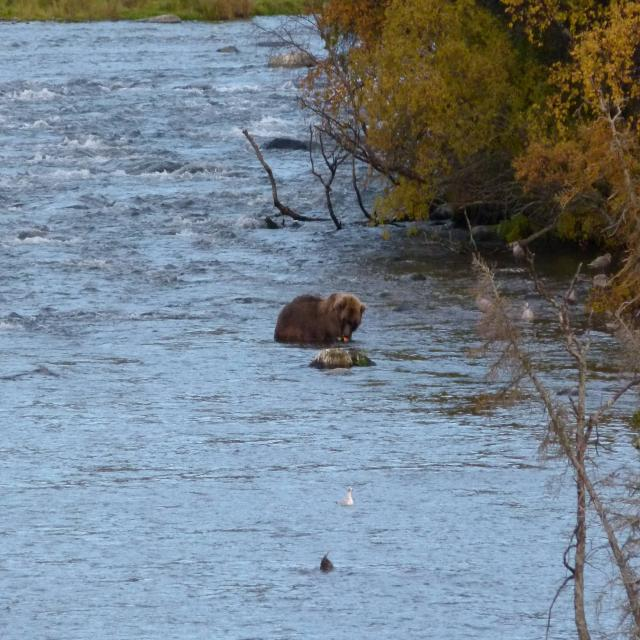bear face: (275, 293, 367, 345)
